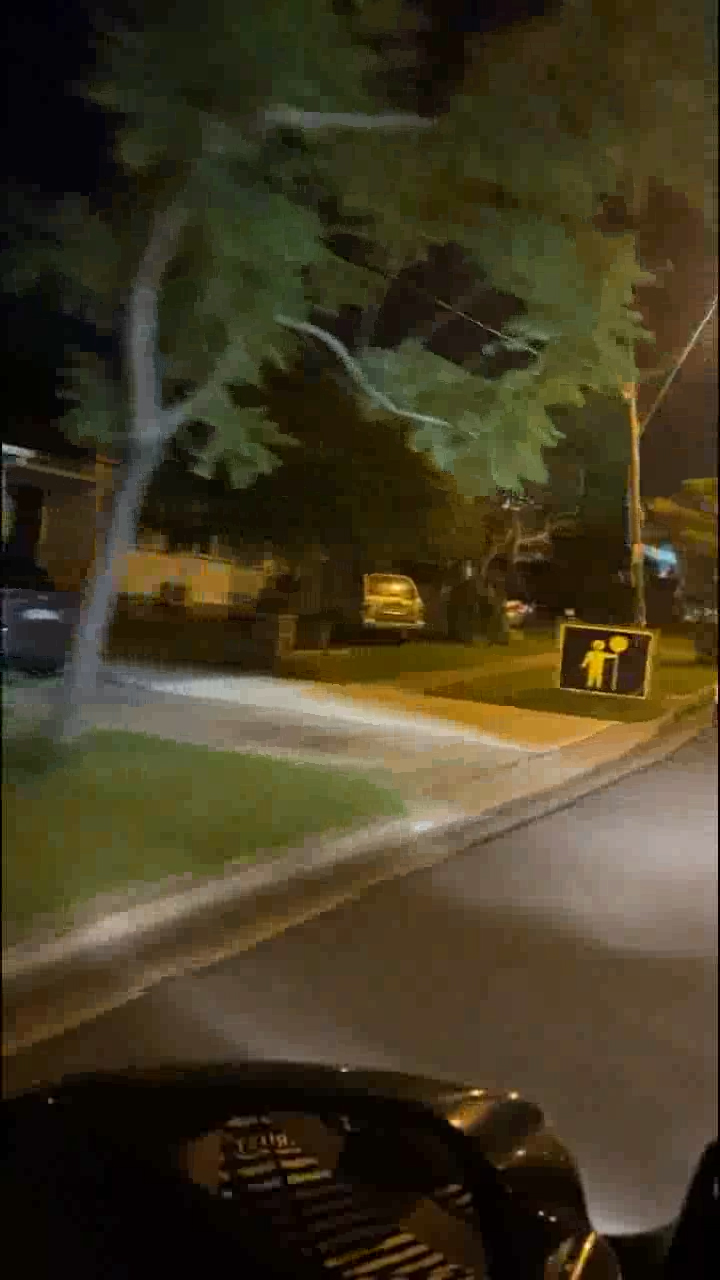prepare to stop board: (555, 626, 644, 691)
